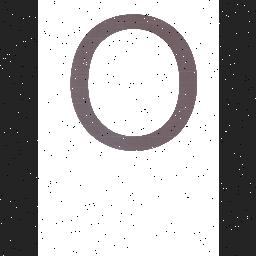o: (67, 7, 203, 159)
